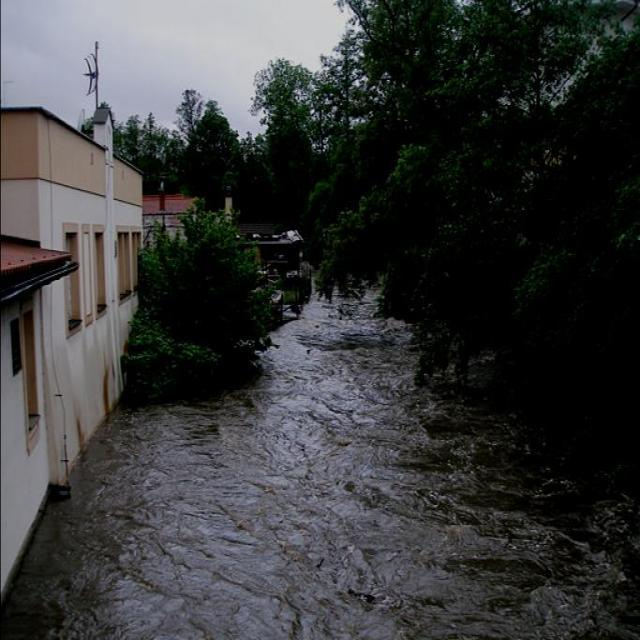flood: (1, 280, 639, 639)
